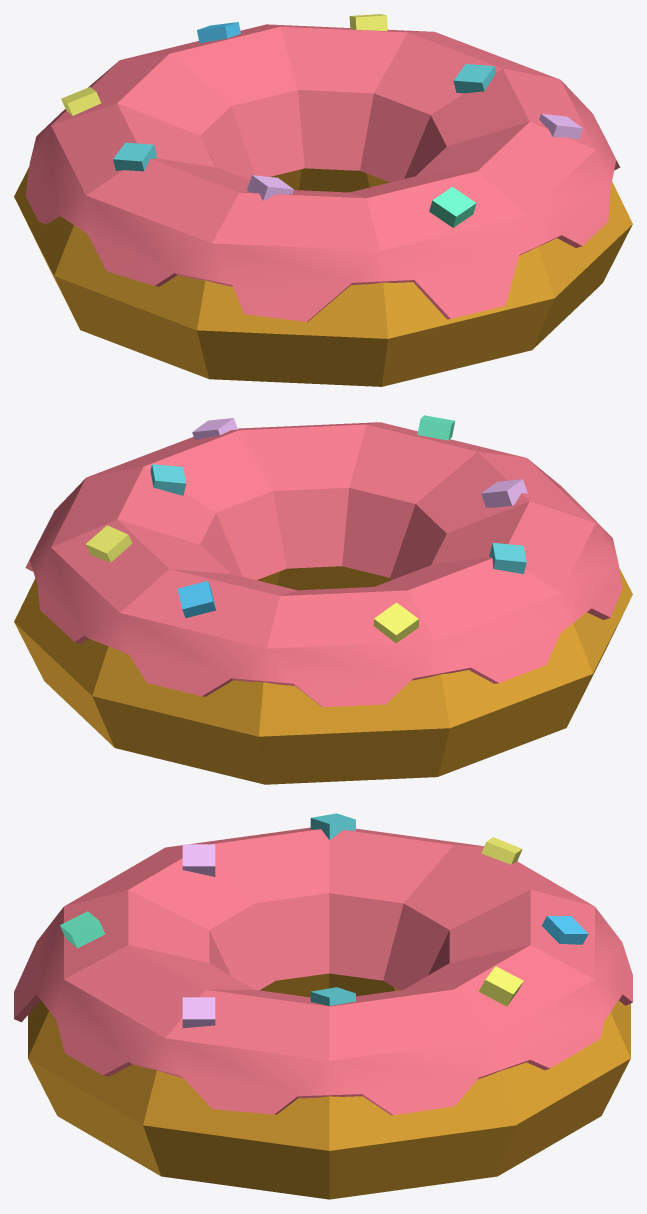
Rendered from PW_doughnut_pink.fbx.
The picture shows the model from 3 angles, top to bottom: view 1: azimuth 30°, elevation 25°; view 2: azimuth 150°, elevation 25°; view 3: azimuth 270°, elevation 25°; orthographic projection.
Visible parts, largest first — view 1: doughnut_pink; view 2: doughnut_pink; view 3: doughnut_pink.
Boxes of the visible parts, <box> form: doughnut_pink: <box>14,14,632,386</box>; doughnut_pink: <box>14,415,632,784</box>; doughnut_pink: <box>14,813,632,1199</box>.
Size of the model in its own units: 30 by 10.26 by 29.28.
1 material, 1 textured.
